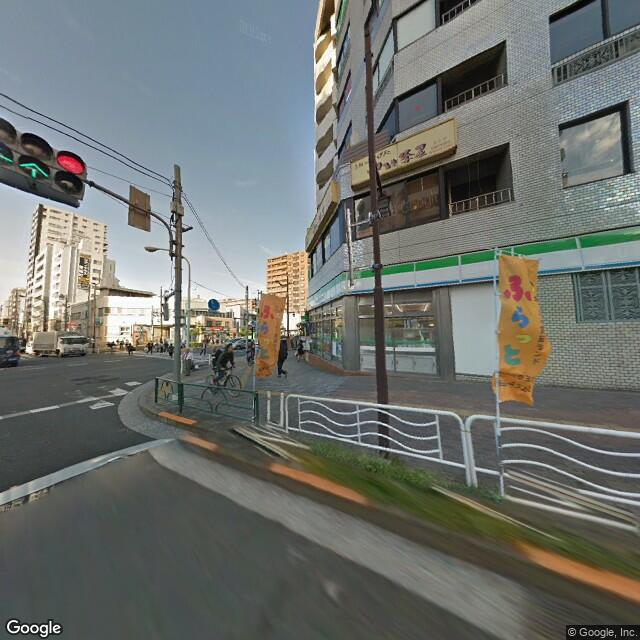family_mart: (306, 219, 639, 314)
